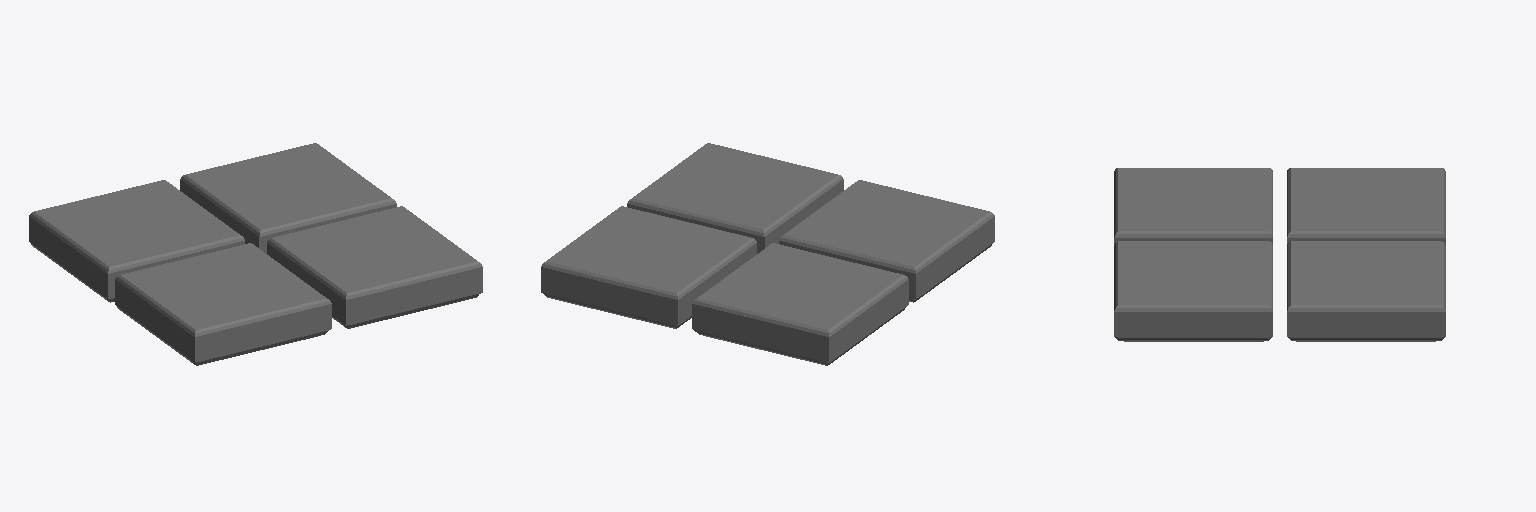
File: quad.obj
3 renders of one model, left to right at view 1: azimuth 30°, elevation 25°; view 2: azimuth 150°, elevation 25°; view 3: azimuth 270°, elevation 25°, orthographic.
Visible parts, largest first — view 1: quad1:pCube2; view 2: quad1:pCube2; view 3: quad1:pCube2.
Boxes of the visible parts, box(x1,y1,x2,y2) form: quad1:pCube2: box(29, 143, 482, 365); quad1:pCube2: box(541, 143, 994, 365); quad1:pCube2: box(1114, 168, 1445, 341).
Size of the model in its own units: 7.36 by 0.9537 by 7.31.